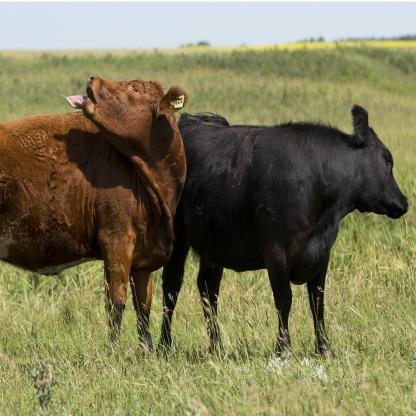cow: (179, 114, 409, 355), (1, 76, 186, 352)
